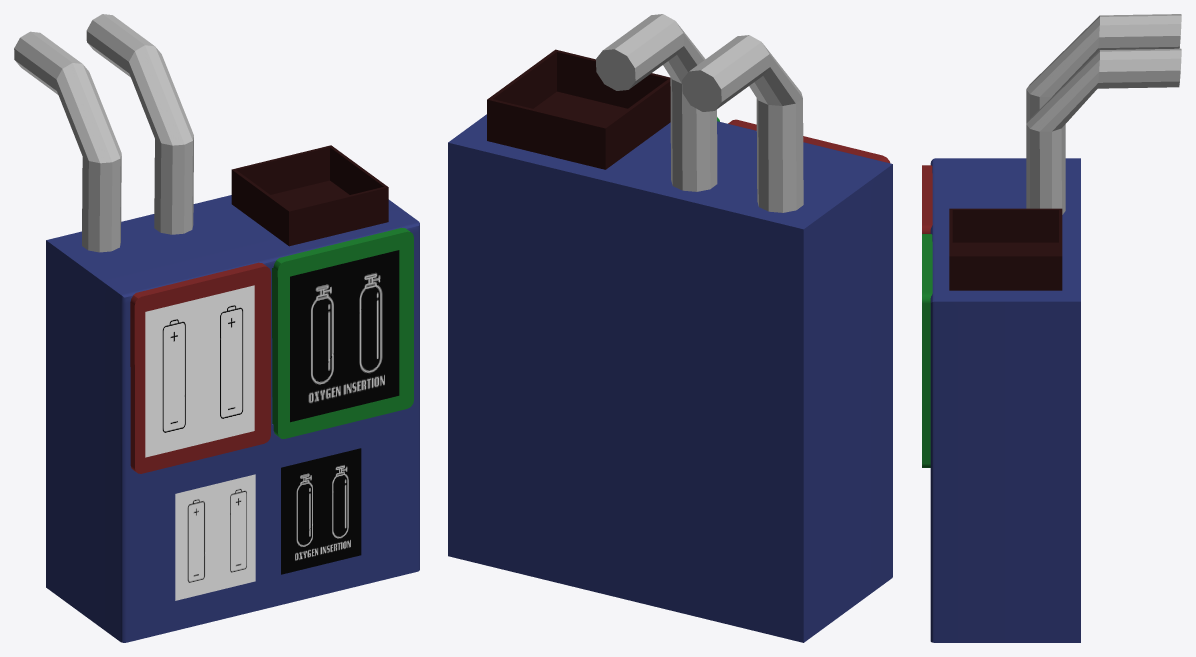
The model's file is BridgeControlMachine.fbx.
The picture shows the model from 3 angles, left to right: view 1: azimuth 30°, elevation 25°; view 2: azimuth 150°, elevation 25°; view 3: azimuth 270°, elevation 25°; orthographic projection. The views are drawn at different scales.
Parts seen in each view (by area): view 1: Bridge_Control_Machine, Plane.002, Plane.001, Oxygen_Cable_Holder, Oxygen Panel, Battery_Panel_cover, Pipe.001, Pipe, Plane.003, Plane.004; view 2: Bridge_Control_Machine, Oxygen_Cable_Holder, Pipe, Pipe.001, Battery_Panel_cover; view 3: Bridge_Control_Machine, Oxygen_Cable_Holder, Pipe.001, Pipe, Oxygen Panel, Battery_Panel_cover.
Boxes of the visible parts, box(x1,y1,x2,y2) form: Bridge_Control_Machine: box(46, 195, 419, 642); Plane.002: box(145, 285, 254, 457); Plane.001: box(290, 250, 399, 422); Oxygen_Cable_Holder: box(231, 145, 388, 246); Oxygen Panel: box(272, 227, 413, 438); Battery_Panel_cover: box(130, 262, 270, 473); Pipe.001: box(86, 14, 193, 234); Pipe: box(14, 31, 121, 252); Plane.003: box(281, 448, 361, 574); Plane.004: box(175, 474, 255, 600); Bridge_Control_Machine: box(448, 114, 892, 642); Oxygen_Cable_Holder: box(487, 49, 670, 169); Pipe: box(682, 35, 803, 212); Pipe.001: box(595, 14, 717, 191); Battery_Panel_cover: box(728, 119, 890, 163); Bridge_Control_Machine: box(930, 158, 1080, 642); Oxygen_Cable_Holder: box(949, 208, 1062, 290); Pipe.001: box(1026, 48, 1181, 214); Pipe: box(1026, 14, 1181, 152); Oxygen Panel: box(922, 234, 932, 467); Battery_Panel_cover: box(922, 165, 932, 233).
Bounding box in the file's own units: 900 × 1468 × 691.
